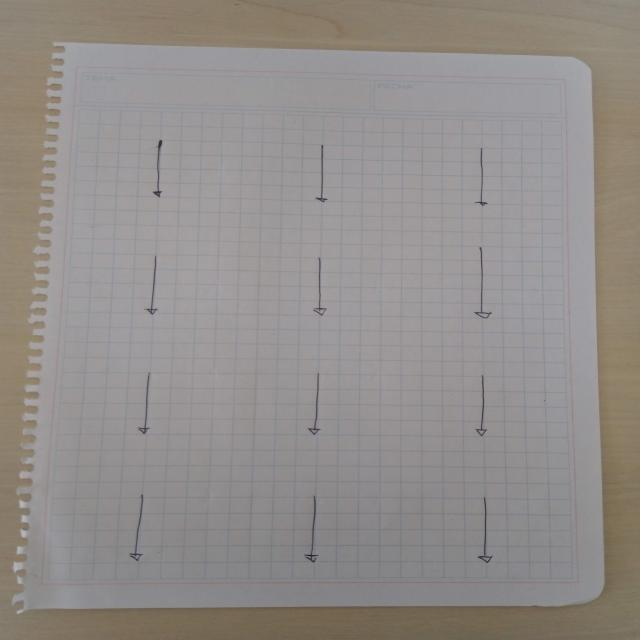arrow_line_down: (288, 488, 334, 564), (464, 245, 498, 322), (466, 372, 501, 442), (468, 498, 503, 568), (304, 372, 336, 443), (141, 252, 172, 321), (124, 494, 154, 564), (144, 139, 175, 203), (310, 251, 338, 320), (130, 372, 160, 436), (308, 142, 334, 208), (470, 146, 494, 212)
